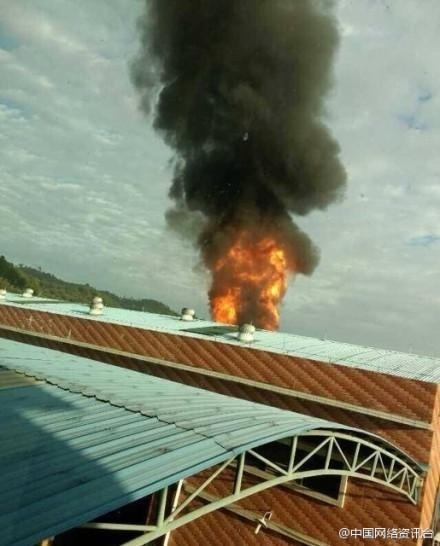fire: (206, 236, 290, 328)
